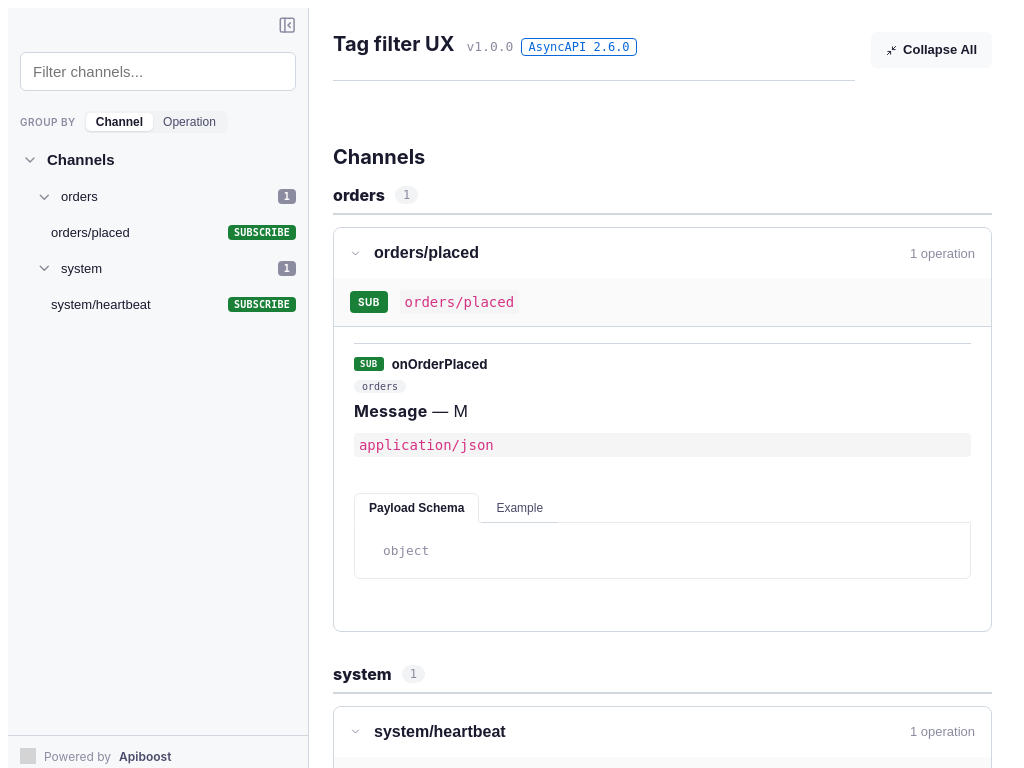
Test: AsyncApiSpec tag-filter clearing (finding 1) › restores all channels when the Clear control is used
Expected: the navigation bar is shown, left=8, top=137, right=308, bottom=326
Click the button "orders" at (380, 386), box left=354, top=380, right=406, bottom=393
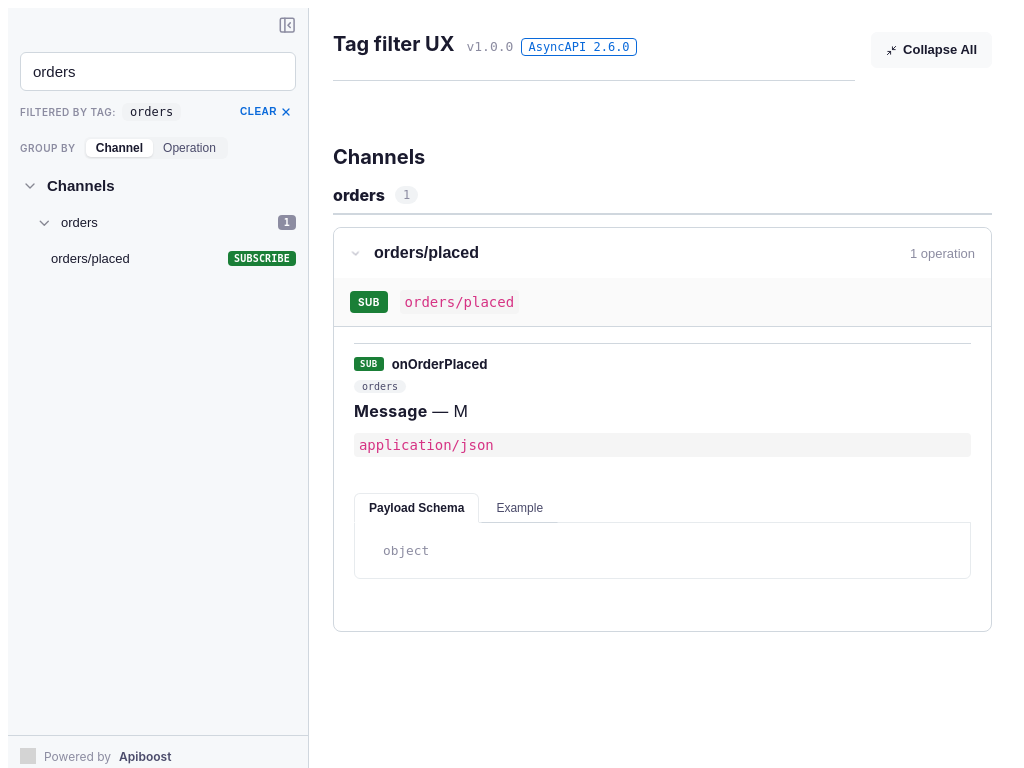
Now the button "system/heartbeat" is gone
Click the button "Clear" at (266, 112), box left=236, top=104, right=296, bottom=120
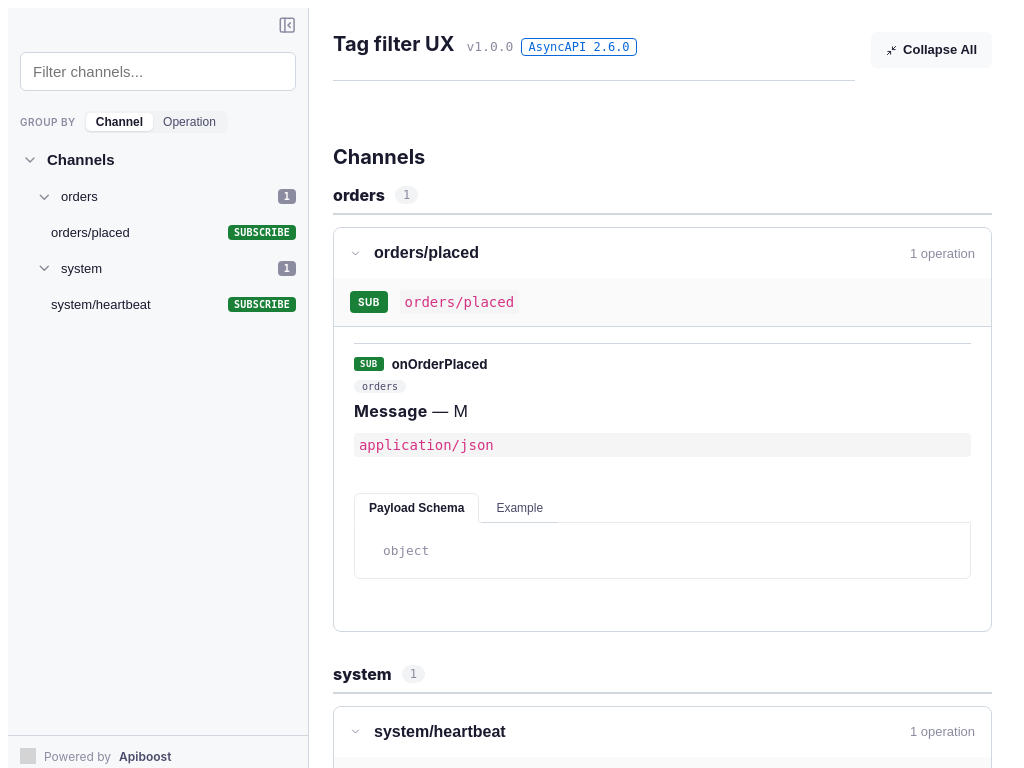
Expected: the 1st text "orders/placed" is shown, left=51, top=225, right=130, bottom=240
Now the 1st text "system/heartbeat" is shown, box left=51, top=297, right=151, bottom=312
Now the text "Filtered by tag" is gone
